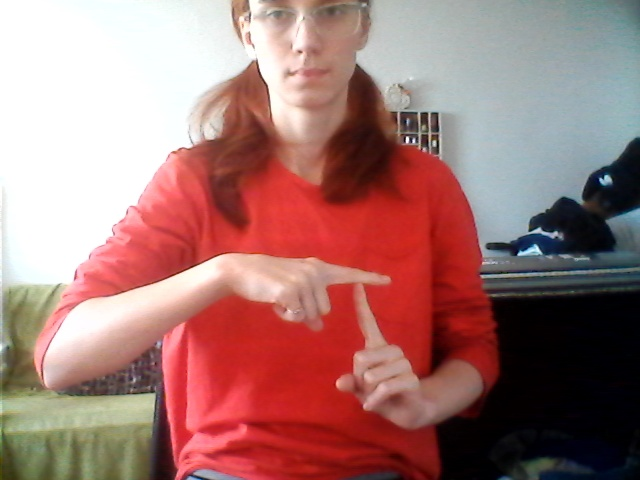t: (275, 242, 425, 436)
